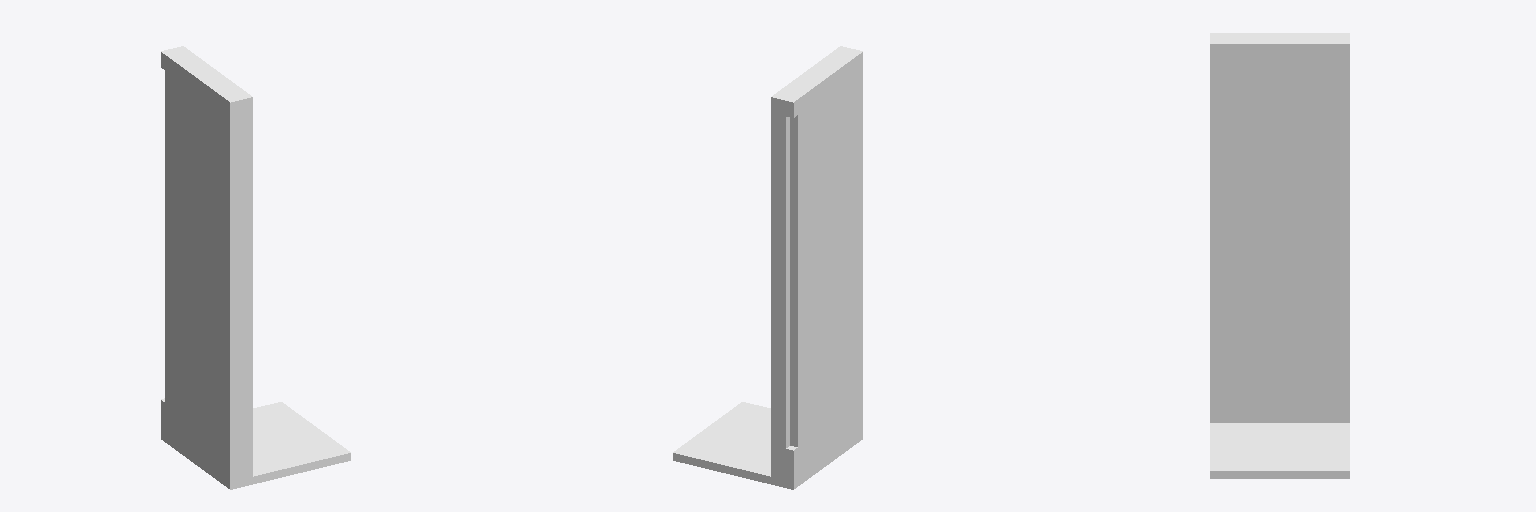
File: WallsSimpleV1CornerFront.obj
The picture shows the model from 3 angles: view 1: azimuth 30°, elevation 25°; view 2: azimuth 150°, elevation 25°; view 3: azimuth 270°, elevation 25°; orthographic projection.
Parts seen in each view (by area): view 1: object 1; view 2: object 1; view 3: object 1.
Part boxes in pixels (x1,y1,x2,y2): object 1: (161,46,350,489); object 1: (673,46,862,489); object 1: (1210,33,1349,478).
Bounding box in the file's own units: 1.6 × 4.9 × 1.6.